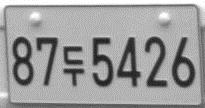2: (144, 35, 168, 88)
4: (116, 36, 141, 87)
5: (91, 36, 113, 87)
6: (169, 35, 195, 88)
7: (34, 36, 58, 87)
8: (11, 35, 34, 85)
두: (62, 45, 85, 87)
